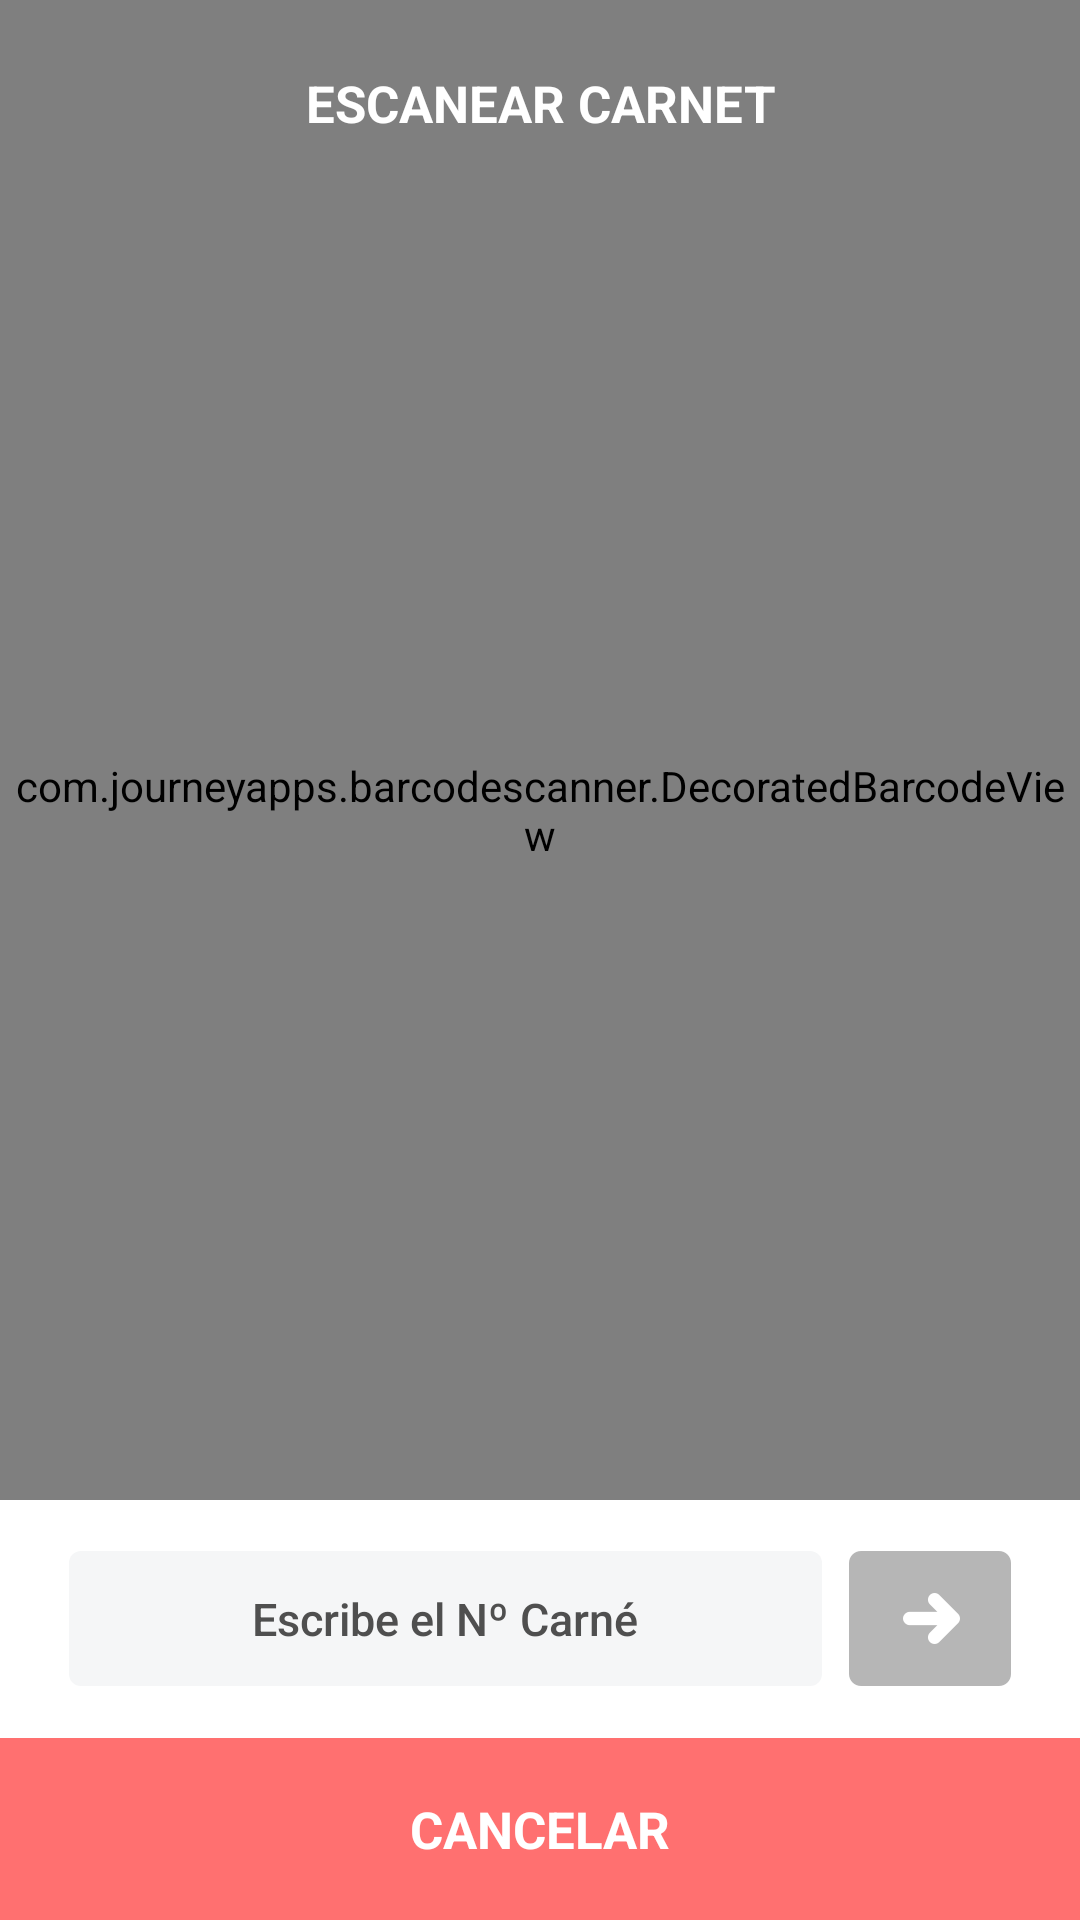

Named icons in this screenshot (1080 x 1920) and their bounding boxes, (x1, y1, x2, y2):
group enter: (849, 1551, 1011, 1686)
